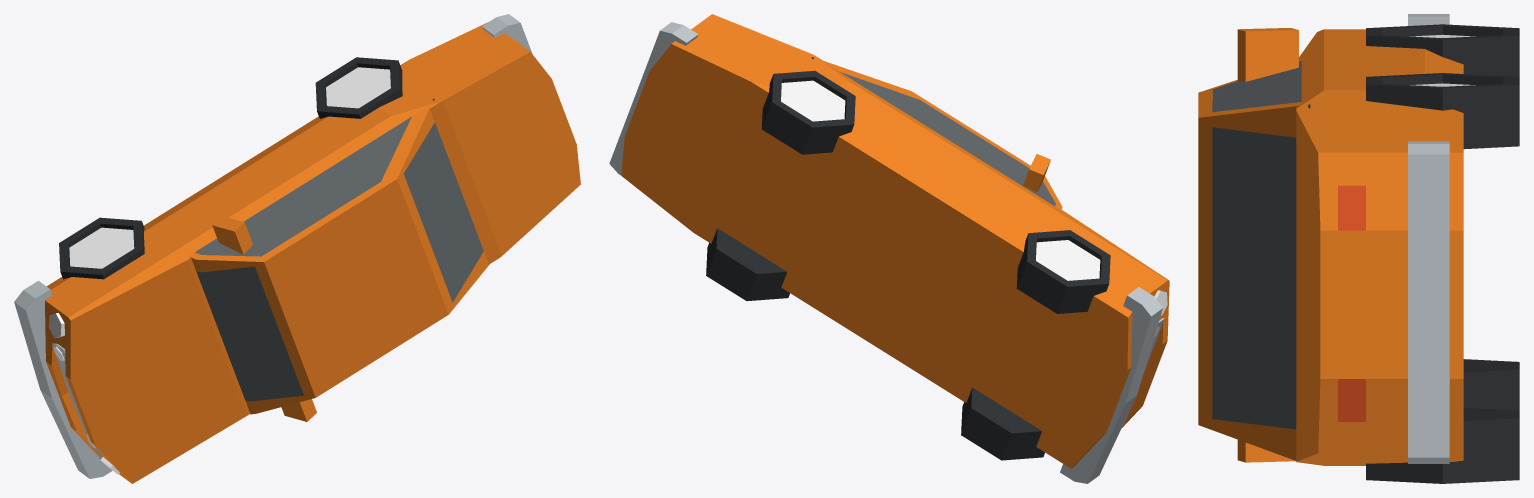
The model's file is tinker.obj.
3 views of the same model, side by side, from view 1: azimuth 30°, elevation 25°; view 2: azimuth 150°, elevation 25°; view 3: azimuth 270°, elevation 25° (orthographic). The views are drawn at different scales.
Visible parts, largest first — view 1: group_0_16089887, group_0_6383466, group_0_12568524, group_0_2829873, group_0_16448250; view 2: group_0_16089887, group_0_2829873, group_0_12568524, group_0_16448250, group_0_6383466; view 3: group_0_16089887, group_0_6383466, group_0_2829873, group_0_12568524, group_0_14897954.
Boxes of the visible parts, bbox=[...] form: group_0_16089887: bbox=[45, 22, 580, 483]; group_0_6383466: bbox=[195, 98, 483, 401]; group_0_12568524: bbox=[14, 14, 532, 478]; group_0_2829873: bbox=[59, 57, 402, 279]; group_0_16448250: bbox=[49, 67, 390, 474]; group_0_16089887: bbox=[621, 14, 1169, 468]; group_0_2829873: bbox=[706, 70, 1110, 460]; group_0_12568524: bbox=[609, 22, 1164, 483]; group_0_16448250: bbox=[781, 80, 1167, 337]; group_0_6383466: bbox=[811, 57, 1055, 205]; group_0_16089887: bbox=[1198, 28, 1463, 465]; group_0_6383466: bbox=[1212, 61, 1310, 429]; group_0_2829873: bbox=[1366, 24, 1519, 483]; group_0_12568524: bbox=[1408, 14, 1449, 463]; group_0_14897954: bbox=[1338, 185, 1365, 421].
Size of the model in its own units: 79.92 by 49.3 by 23.
